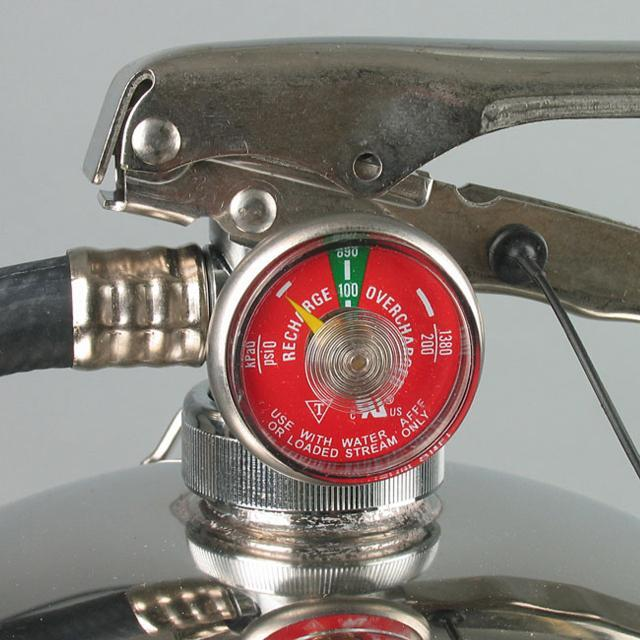pressure gauge: (207, 214, 482, 483)
